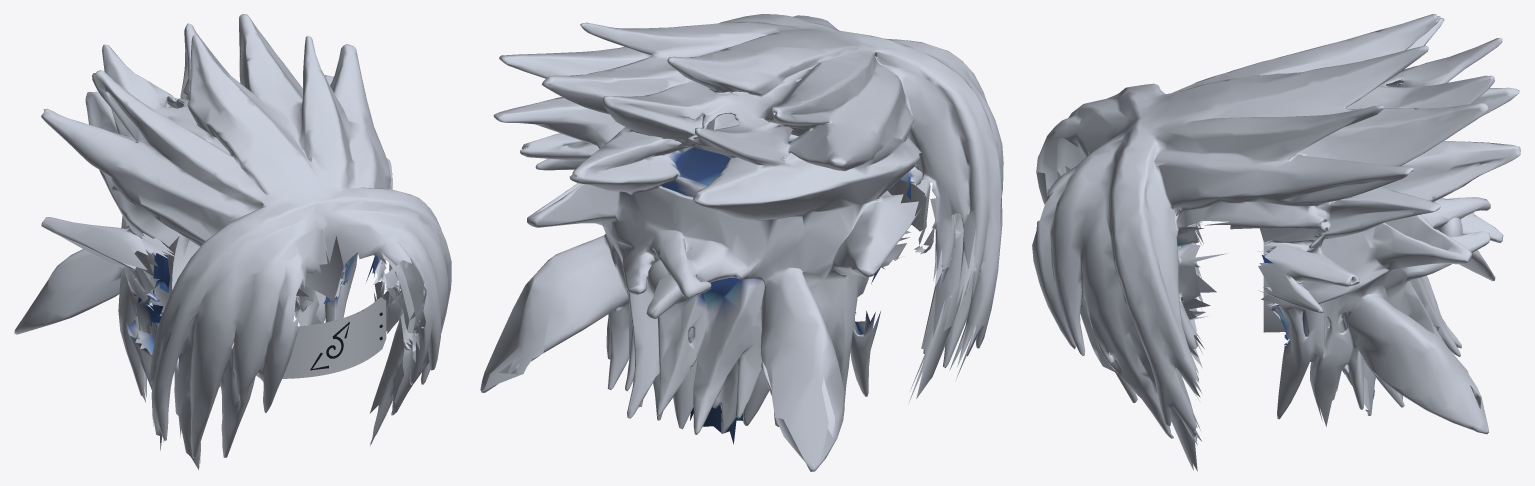
File: reference-sculpt-hair-v9.glb
3 views of the same model, side by side, from view 1: azimuth 30°, elevation 25°; view 2: azimuth 150°, elevation 25°; view 3: azimuth 270°, elevation 25° (orthographic). The views are drawn at different scales.
Visible parts, largest first — view 1: Reference Sculpt Hair; view 2: Reference Sculpt Hair; view 3: Reference Sculpt Hair.
Boxes of the visible parts, x1,y1,x2,y2 form: Reference Sculpt Hair: (14,14,451,469); Reference Sculpt Hair: (480,14,1003,471); Reference Sculpt Hair: (1032,14,1520,471).
Size of the model in its own units: 0.331 by 0.3475 by 0.3967.
